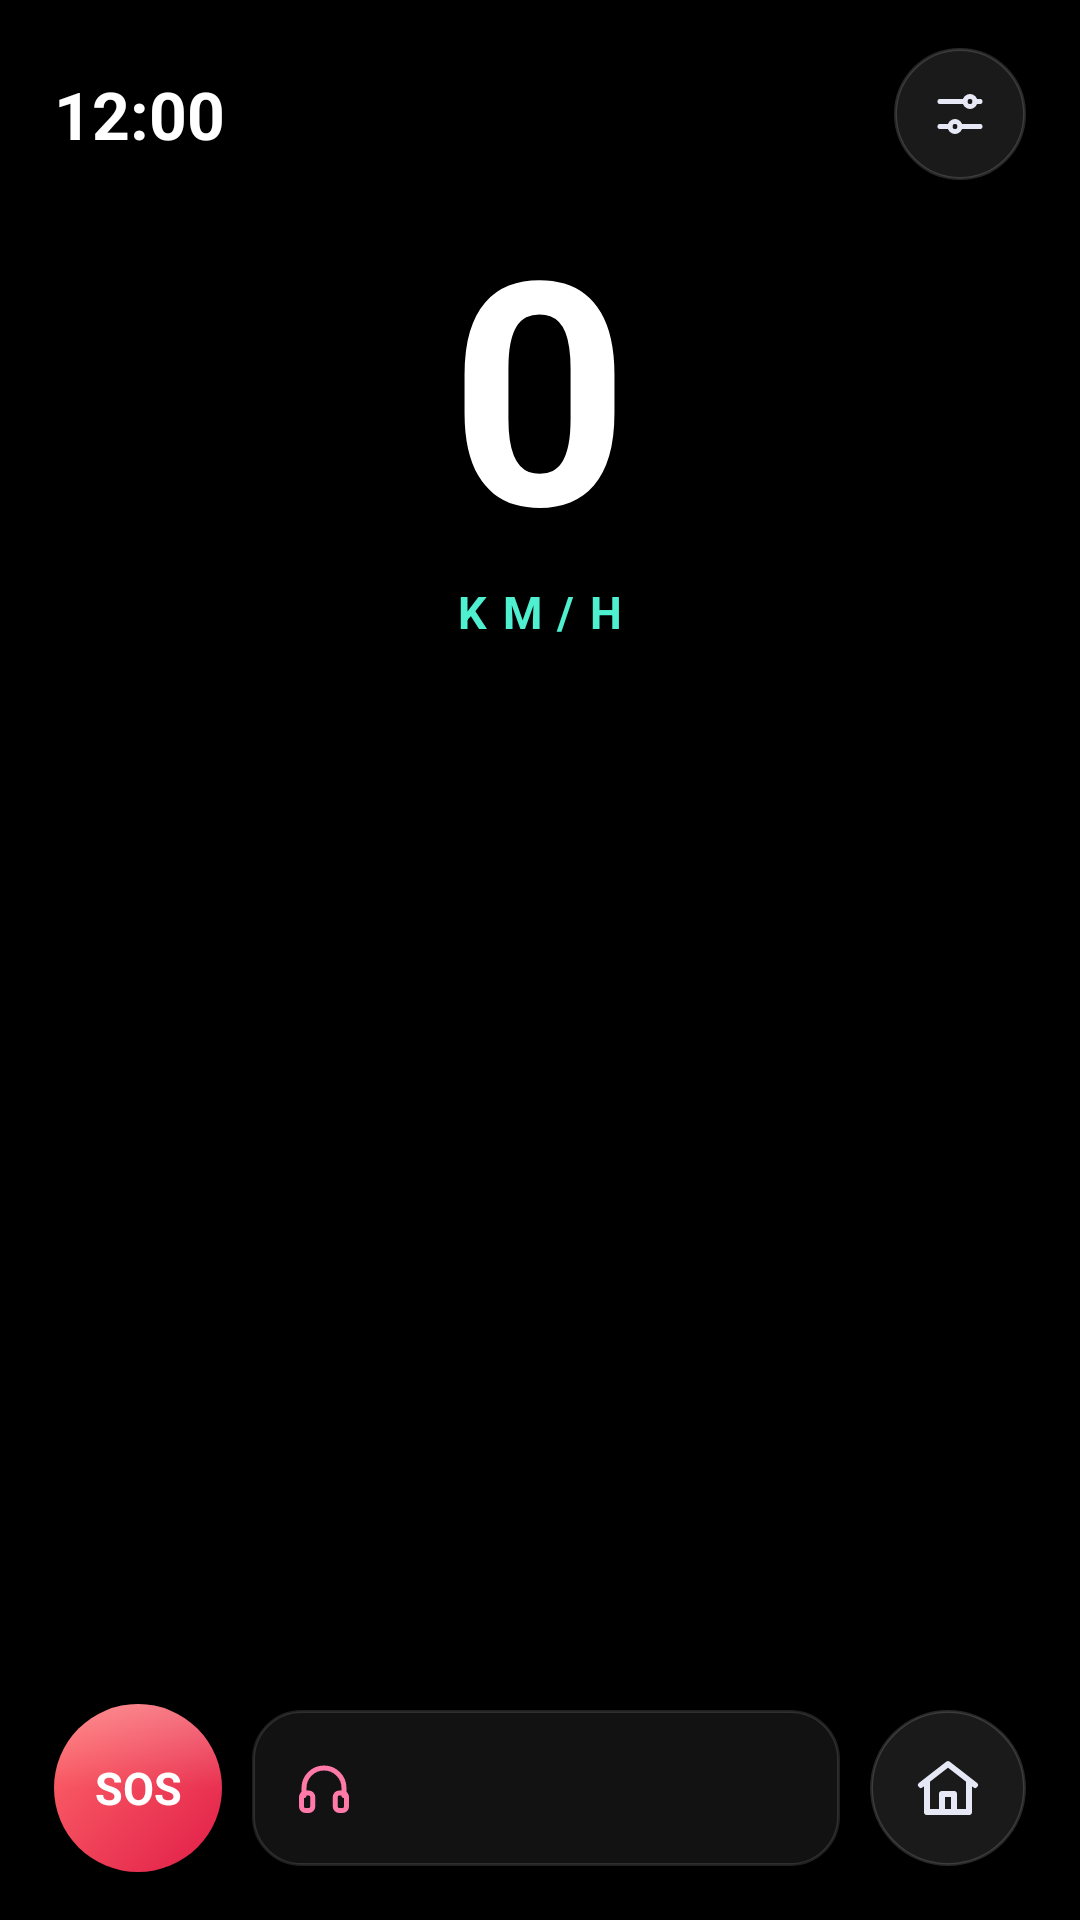

Named icons in this screenshot (1080x1920) and their bounding boxes, [x1,y1,x2,y2]:
music: [299,1765,349,1813]
Phone home screen: [870,1710,1026,1866]
Settings: [894,48,1026,180]
